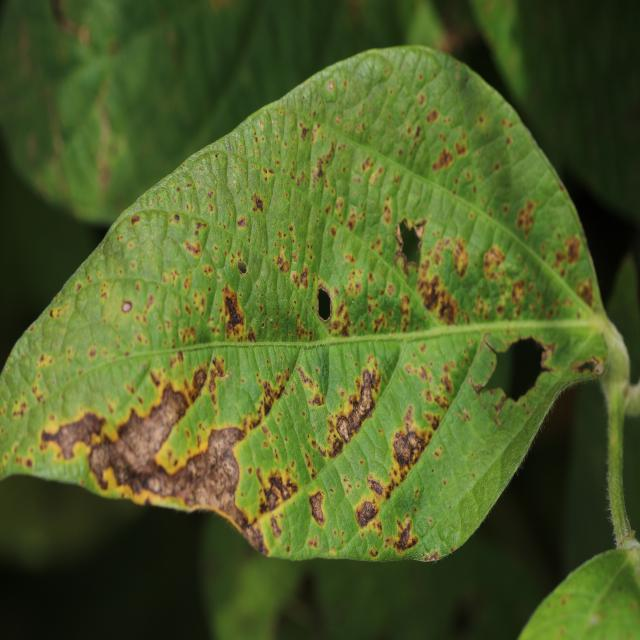Bacterial_Blight: (86, 384, 204, 500), (314, 359, 381, 458), (387, 402, 435, 480), (405, 348, 461, 410), (41, 410, 105, 462), (417, 269, 462, 325), (253, 462, 297, 519), (210, 281, 256, 335), (395, 215, 429, 280), (88, 441, 120, 488), (311, 136, 337, 188), (157, 385, 189, 424), (473, 385, 508, 420), (239, 518, 268, 553), (327, 298, 352, 338), (515, 199, 538, 237), (482, 245, 506, 280), (537, 338, 561, 373), (322, 426, 346, 460), (354, 498, 379, 530), (395, 518, 417, 551), (296, 365, 320, 394), (452, 240, 470, 278), (274, 242, 294, 275), (344, 270, 364, 301), (308, 490, 326, 524), (571, 357, 601, 377), (431, 146, 453, 173), (260, 380, 278, 413), (564, 235, 582, 265), (360, 367, 378, 396), (576, 277, 594, 305), (192, 366, 208, 394), (399, 295, 411, 331), (511, 279, 527, 305), (11, 396, 29, 419), (192, 290, 207, 316), (381, 197, 393, 225), (184, 239, 202, 257), (251, 193, 265, 213), (421, 549, 440, 563), (346, 210, 358, 232), (454, 137, 467, 157), (299, 123, 310, 142), (426, 108, 439, 124), (300, 266, 309, 287), (121, 300, 133, 313), (236, 216, 247, 229), (417, 92, 426, 107), (195, 221, 207, 232), (203, 264, 213, 276), (368, 548, 379, 558), (130, 215, 140, 225), (171, 213, 180, 223), (89, 348, 97, 359), (328, 81, 334, 91)
Soybean: (0, 47, 608, 560)
